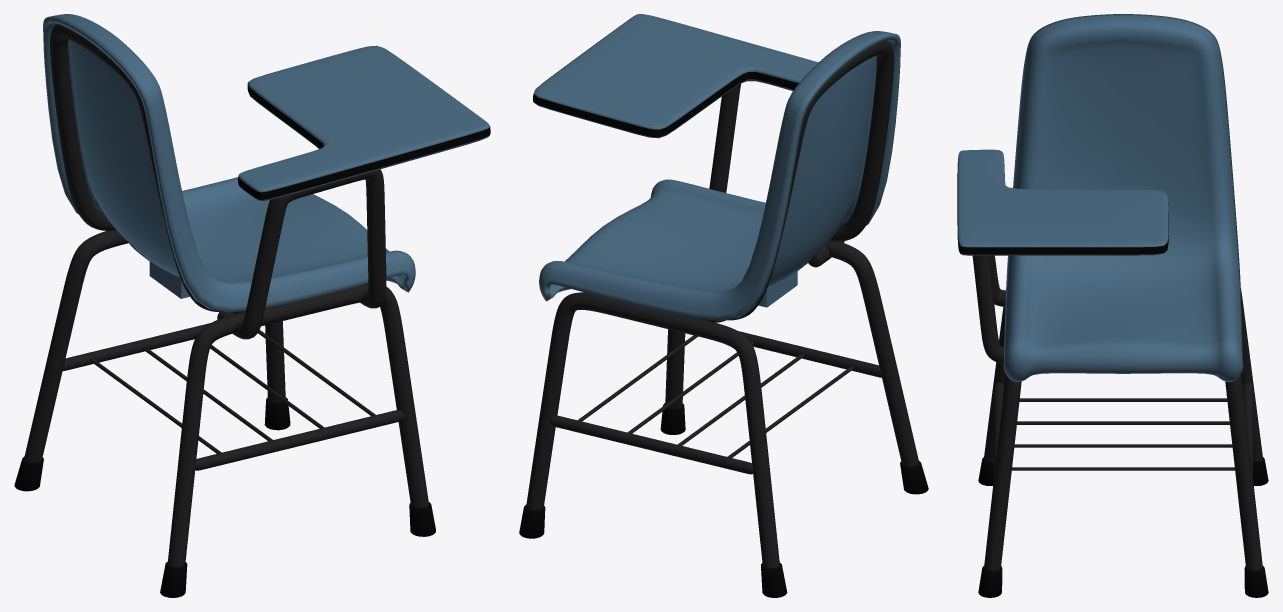
The model's file is nu-chair.glb.
The picture shows the model from 3 angles, left to right: view 1: azimuth 30°, elevation 25°; view 2: azimuth 150°, elevation 25°; view 3: azimuth 270°, elevation 25°; orthographic projection. The views are drawn at different scales.
Visible parts, largest first — view 1: plastic_seat_6, writing_table_11, legs_0, table_support_pipes_12, back_support_pipes_5, side_pipes_legs_1, small_pipes_under_seat001_13, back_feet_8, front_feet_7, seat_fasten_block_9; view 2: plastic_seat_6, writing_table_11, legs_0, back_support_pipes_5, side_pipes_legs_1, small_pipes_under_seat001_13, table_support_pipes_12, back_feet_8, front_feet_7, seat_fasten_block_9; view 3: plastic_seat_6, writing_table_11, legs_0, small_pipes_under_seat001_13, table_support_pipes_12, front_feet_7, side_pipes_legs_1, back_feet_8.
Part boxes in pixels (bbox=[...]): plastic_seat_6: bbox=[43, 14, 415, 312]; writing_table_11: bbox=[238, 45, 490, 200]; legs_0: bbox=[24, 230, 428, 567]; table_support_pipes_12: bbox=[217, 169, 386, 339]; back_support_pipes_5: bbox=[50, 24, 224, 311]; side_pipes_legs_1: bbox=[62, 323, 404, 470]; small_pipes_under_seat001_13: bbox=[91, 330, 375, 453]; back_feet_8: bbox=[14, 456, 187, 597]; front_feet_7: bbox=[264, 397, 435, 536]; seat_fasten_block_9: bbox=[149, 261, 189, 298]; plastic_seat_6: bbox=[539, 31, 900, 320]; writing_table_11: bbox=[533, 14, 818, 138]; legs_0: bbox=[526, 241, 919, 568]; back_support_pipes_5: bbox=[725, 40, 894, 320]; side_pipes_legs_1: bbox=[549, 331, 881, 474]; small_pipes_under_seat001_13: bbox=[578, 335, 853, 457]; table_support_pipes_12: bbox=[709, 83, 844, 267]; back_feet_8: bbox=[761, 461, 928, 597]; front_feet_7: bbox=[519, 403, 685, 538]; seat_fasten_block_9: bbox=[758, 270, 797, 307]; plastic_seat_6: bbox=[1003, 14, 1243, 381]; writing_table_11: bbox=[957, 149, 1168, 255]; legs_0: bbox=[984, 288, 1262, 570]; small_pipes_under_seat001_13: bbox=[1012, 398, 1234, 470]; table_support_pipes_12: bbox=[972, 255, 1005, 363]; front_feet_7: bbox=[978, 566, 1268, 597]; side_pipes_legs_1: bbox=[993, 382, 1252, 476]; back_feet_8: bbox=[978, 457, 1268, 485].
Size of the model in its own units: 2.8 by 4.29 by 2.61.
